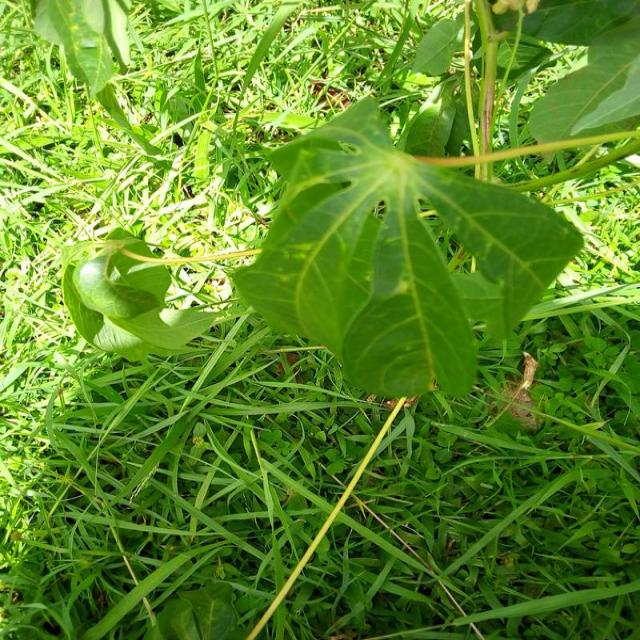cassava leaf: (230, 93, 584, 399), (61, 226, 222, 362)
